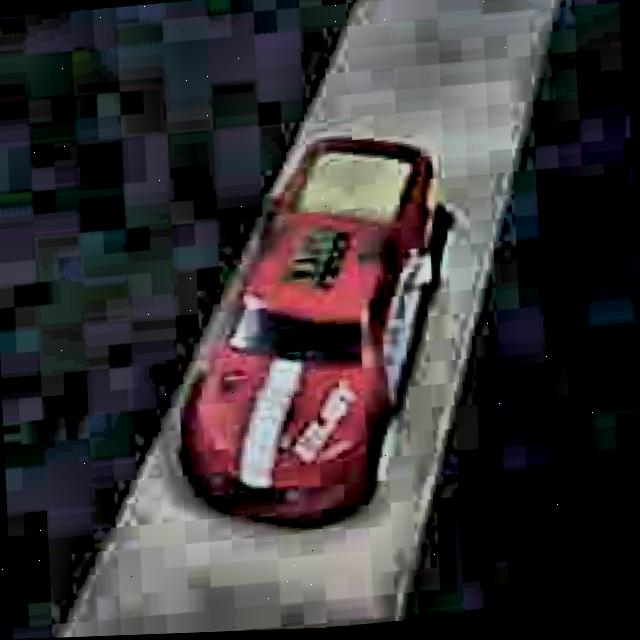car: (160, 122, 469, 544)
